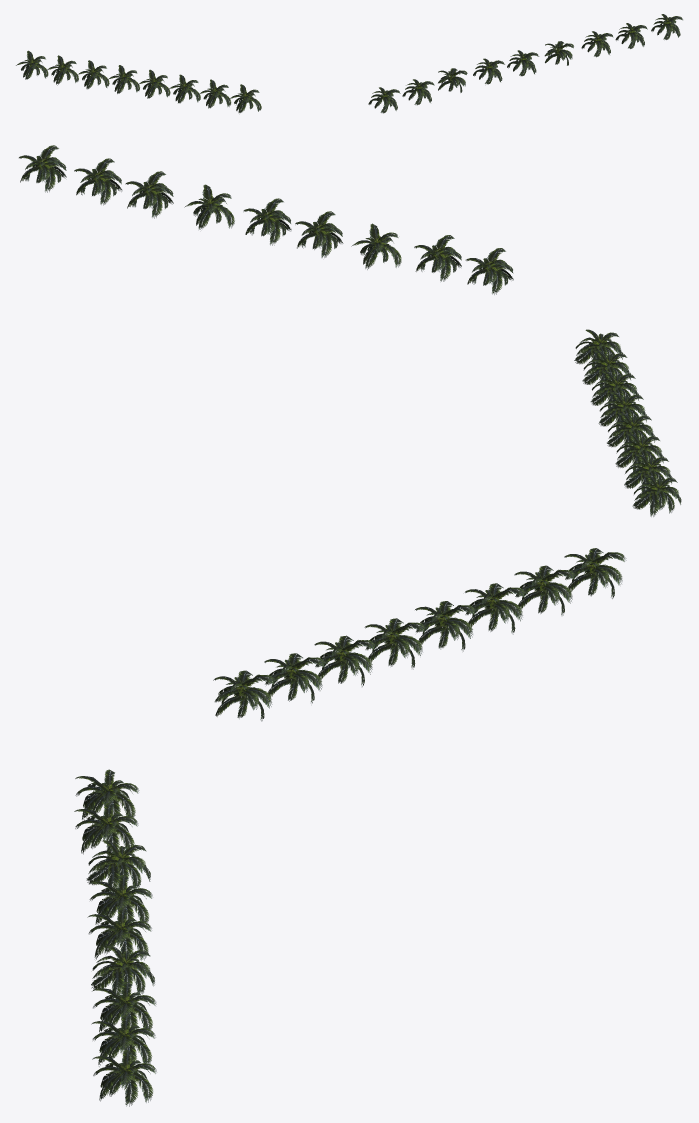
The model's file is TREE LEAVES 1.fbx.
3 renders of one model, top to bottom at view 1: azimuth 30°, elevation 25°; view 2: azimuth 150°, elevation 25°; view 3: azimuth 270°, elevation 25°, orthographic. The views are drawn at different scales.
Visible parts, largest first — view 1: Unity; view 2: Unity; view 3: Unity.
Part boxes in pixels (<box>): Unity: <box>16,14,682,113</box>; Unity: <box>19,145,681,516</box>; Unity: <box>74,548,626,1106</box>.
Bounding box in the file's own units: 97.76 × 3.82 × 42.83.
Materials: 1 (1 with a texture image).
